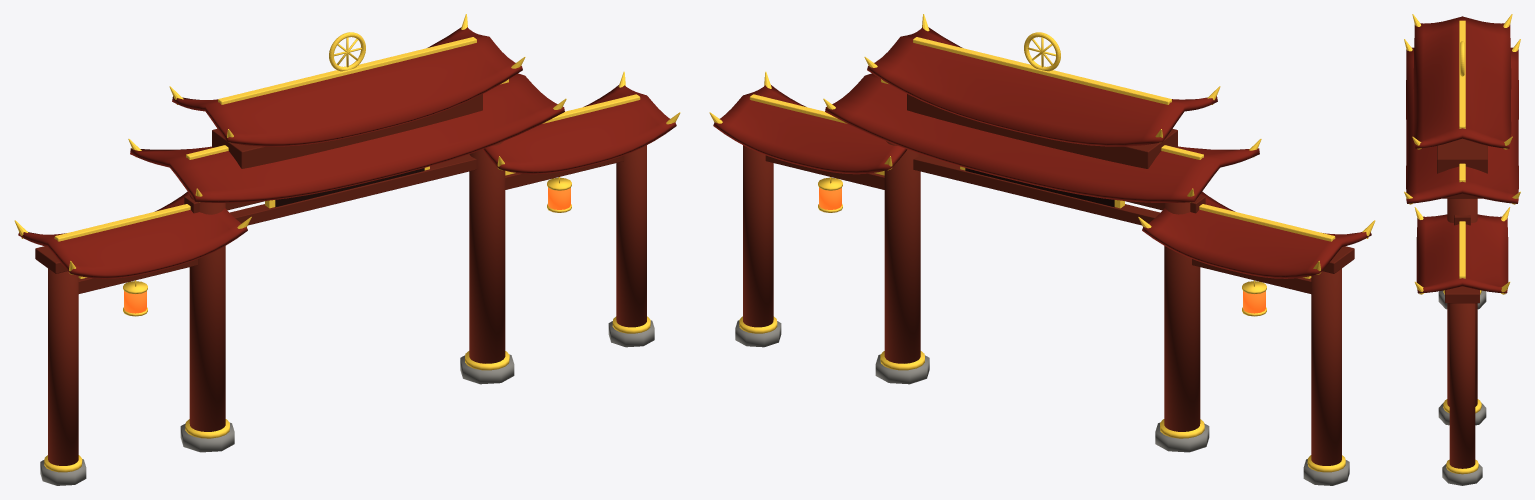
File: cong_tam_quan.glb
3 views of the same model, side by side, from view 1: azimuth 30°, elevation 25°; view 2: azimuth 150°, elevation 25°; view 3: azimuth 270°, elevation 25° (orthographic). The views are drawn at different scales.
Visible parts, largest first — view 1: CenterRoofUpper, CenterRoofLower, SideRoof_-1, SideRoof_1, GatePillar_5.9, GatePillar_-5.9, GatePillar_-12.0, GatePillar_12.0, RoofNeck, CenterSubBeam, CenterRoofUpper_Ridge, SideRoof_-1_Ridge (+6 smaller); view 2: CenterRoofUpper, CenterRoofLower, SideRoof_-1, SideRoof_1, GatePillar_5.9, GatePillar_-5.9, GatePillar_-12.0, GatePillar_12.0, RoofNeck, CenterSubBeam, CenterRoofUpper_Ridge, SideRoof_-1_Ridge (+6 smaller); view 3: CenterRoofUpper, SideRoof_1, CenterRoofLower, GatePillar_12.0, RoofNeck, GatePillar_5.9, CenterRoofUpper_Ridge, Bracket_12.0, StonePlinth_12.0, SideRoof_1_Ridge, StonePlinth_5.9, StoneTorus_12.0 (+3 smaller).
Boxes of the visible parts, x1,y1,x2,y2 form: CenterRoofUpper: [172, 27, 522, 146]; CenterRoofLower: [130, 73, 564, 202]; SideRoof_-1: [18, 191, 247, 278]; SideRoof_1: [482, 85, 676, 174]; GatePillar_5.9: [469, 141, 505, 363]; GatePillar_-5.9: [189, 194, 225, 431]; GatePillar_-12.0: [48, 268, 78, 465]; GatePillar_12.0: [616, 145, 646, 327]; RoofNeck: [212, 94, 482, 168]; CenterSubBeam: [230, 154, 476, 225]; CenterRoofUpper_Ridge: [218, 37, 476, 104]; SideRoof_-1_Ridge: [54, 204, 190, 241]; CenterRoofUpper: [867, 27, 1217, 146]; CenterRoofLower: [825, 73, 1259, 202]; SideRoof_-1: [1142, 191, 1371, 278]; SideRoof_1: [713, 85, 907, 174]; GatePillar_5.9: [884, 141, 920, 363]; GatePillar_-5.9: [1164, 194, 1200, 431]; GatePillar_-12.0: [1311, 268, 1341, 465]; GatePillar_12.0: [743, 145, 773, 327]; RoofNeck: [907, 94, 1177, 168]; CenterSubBeam: [913, 154, 1159, 225]; CenterRoofUpper_Ridge: [913, 37, 1171, 104]; SideRoof_-1_Ridge: [1199, 204, 1335, 241]; CenterRoofUpper: [1413, 16, 1511, 148]; SideRoof_1: [1416, 214, 1508, 293]; CenterRoofLower: [1406, 47, 1518, 203]; GatePillar_12.0: [1449, 303, 1475, 468]; RoofNeck: [1437, 138, 1487, 173]; GatePillar_5.9: [1447, 198, 1477, 406]; CenterRoofUpper_Ridge: [1459, 20, 1465, 128]; Bracket_12.0: [1445, 286, 1479, 303]; StonePlinth_12.0: [1442, 464, 1482, 485]; SideRoof_1_Ridge: [1459, 221, 1465, 278]; StonePlinth_5.9: [1438, 402, 1486, 425]; StoneTorus_12.0: [1446, 459, 1478, 474].
Bounding box in the file's own units: 25.76 × 15.09 × 5.04.
